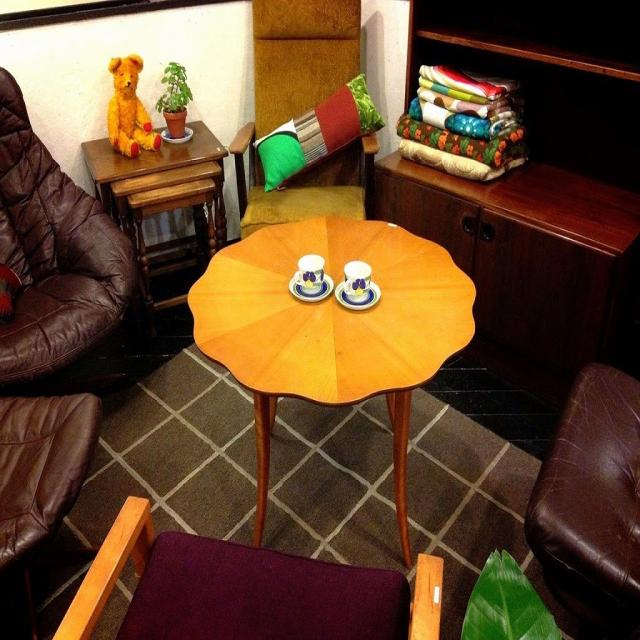vintage chair: (0, 61, 149, 390)
vintage desk: (181, 215, 468, 562)
